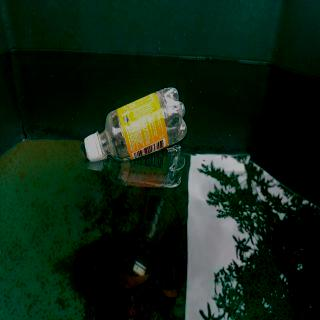bottle: (84, 86, 188, 164)
